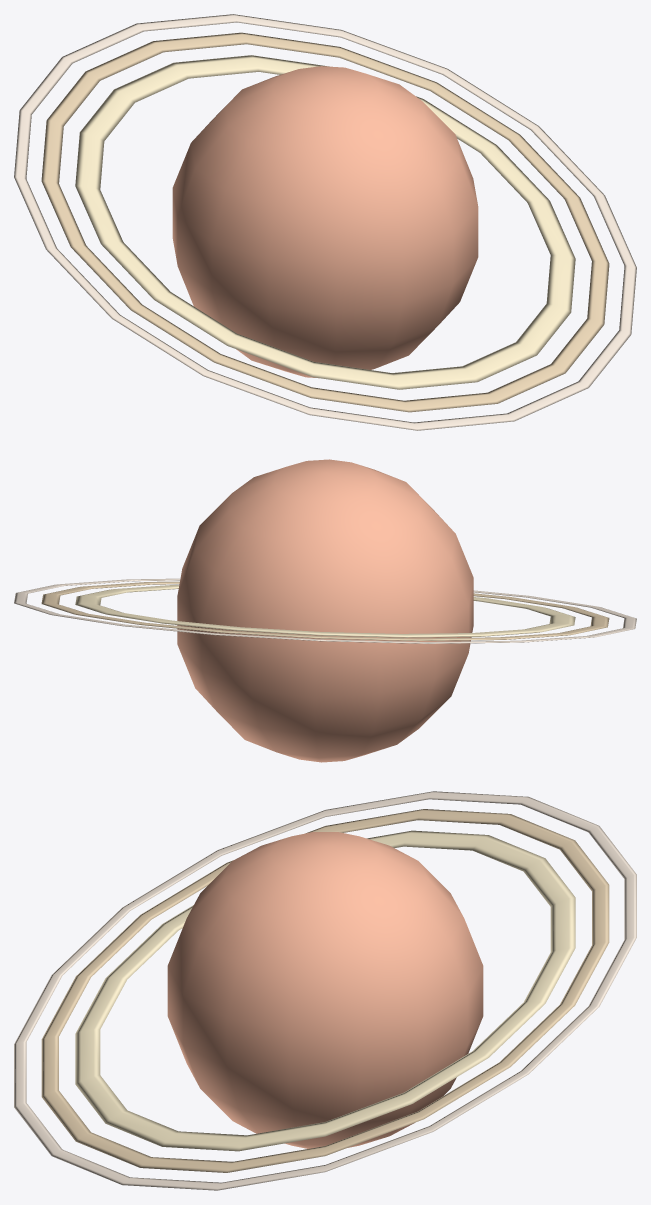
File: space__ringed.fbx
3 renders of one model, top to bottom at view 1: azimuth 30°, elevation 25°; view 2: azimuth 150°, elevation 25°; view 3: azimuth 270°, elevation 25°, orthographic. The views are drawn at different scales.
Visible parts, largest first — view 1: space__ringed; view 2: space__ringed; view 3: space__ringed.
Boxes of the visible parts, x1,y1,x2,y2 form: space__ringed: (14, 14, 636, 430); space__ringed: (14, 459, 636, 762); space__ringed: (14, 791, 636, 1190).
Bounding box in the file's own units: 24.66 × 12 × 23.32.
